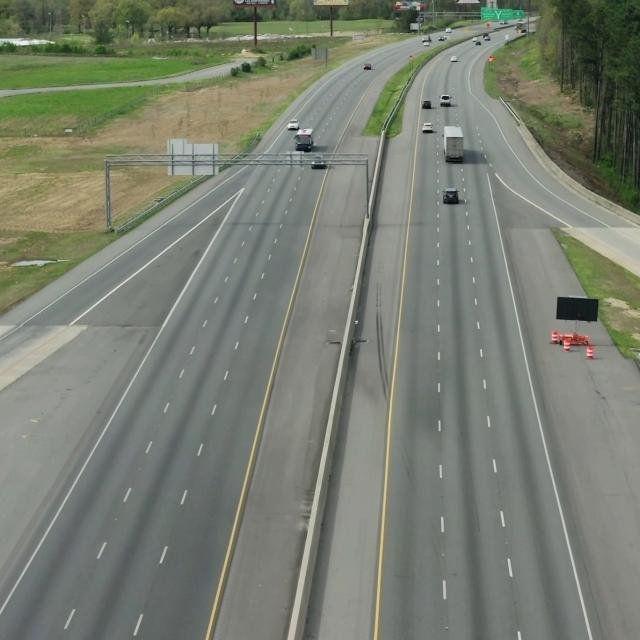Car: (440, 121, 470, 167), (439, 184, 465, 208)
